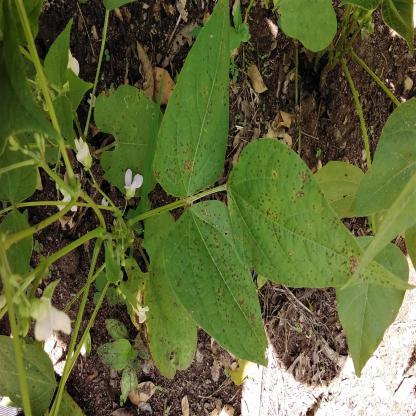Beans_Angular_LeafSpot: (224, 138, 398, 292), (169, 199, 270, 369), (155, 1, 228, 193)
